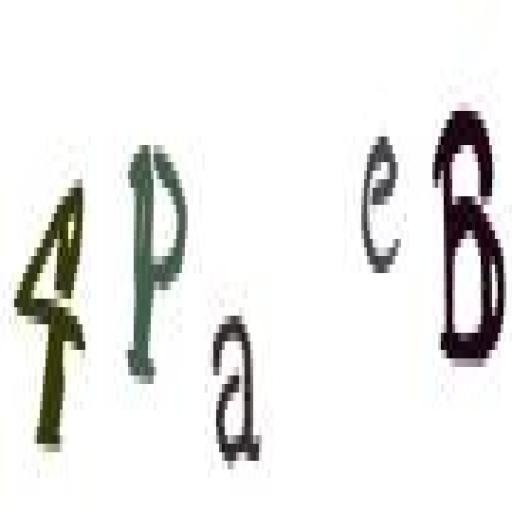4: (8, 164, 94, 472)
B: (423, 85, 512, 385)
P: (122, 132, 190, 401)
a: (210, 302, 266, 486)
e: (356, 120, 410, 296)
